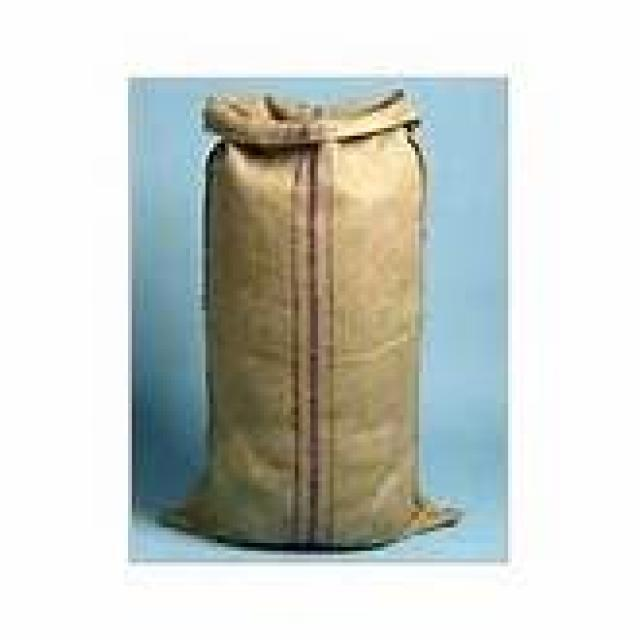gunny_bag: (162, 94, 472, 549)
